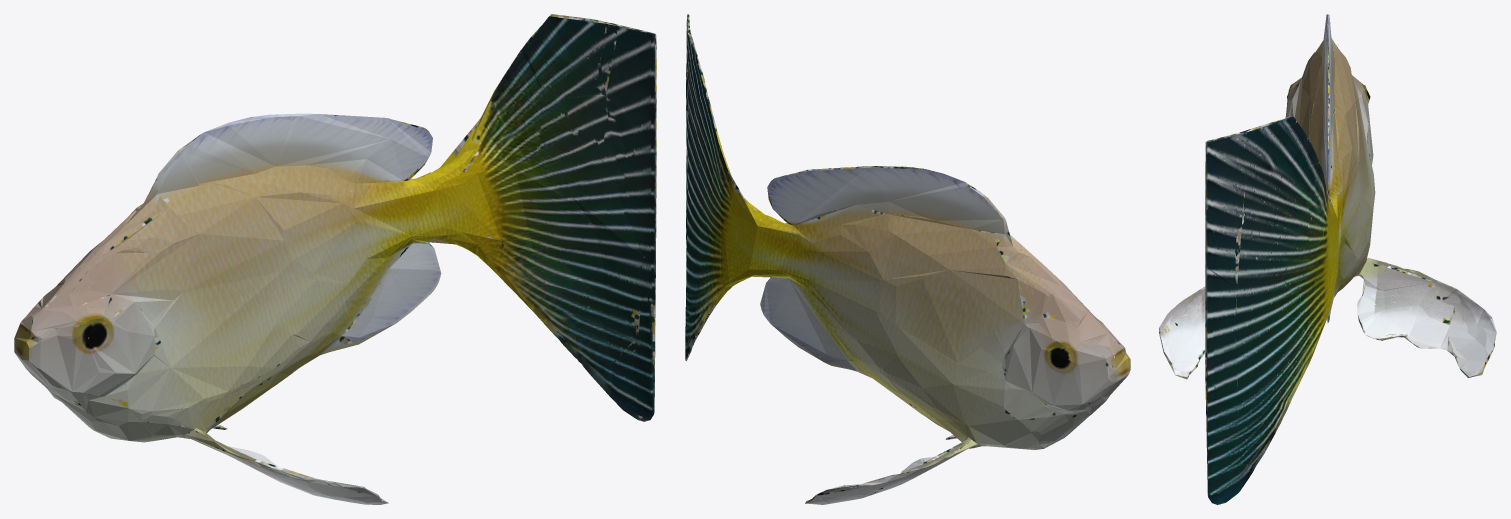
The model's file is fish_0066_smpl23_resized.glb.
The picture shows the model from 3 angles, left to right: view 1: azimuth 30°, elevation 25°; view 2: azimuth 150°, elevation 25°; view 3: azimuth 270°, elevation 25°; orthographic projection. The views are drawn at different scales.
Parts seen in each view (by area): view 1: world; view 2: world; view 3: world.
Part boxes in pixels (x1,y1,x2,y2): world: (14,14,656,504); world: (685,14,1130,504); world: (1159,14,1496,504).
Size of the model in its own units: 1.99 by 1.31 by 1.09.
1 material, 1 textured.
